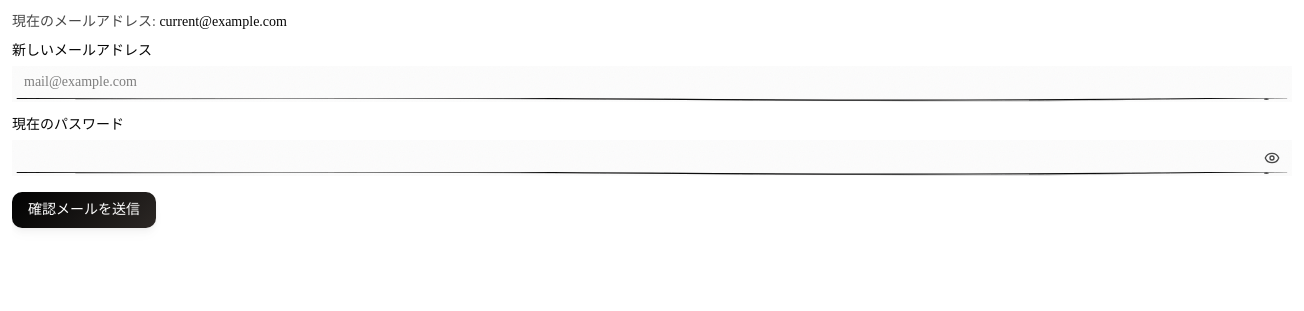
Test case: EmailChangeForm › 送信処理 › OAuth 専用アカウント（パスワード未設定）の場合 result.error をそのまま表示する
Type "new@example.com" into the field labelled "新しいメールアドレス" at (652, 84), box [12,66,1292,102]
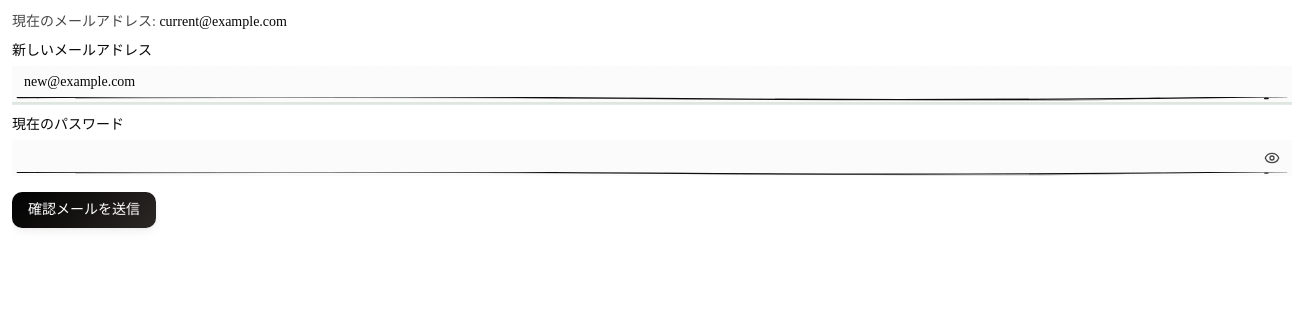
Type "somePass1" into the password field labelled "現在のパスワード" at (652, 158), box [12,140,1292,176]
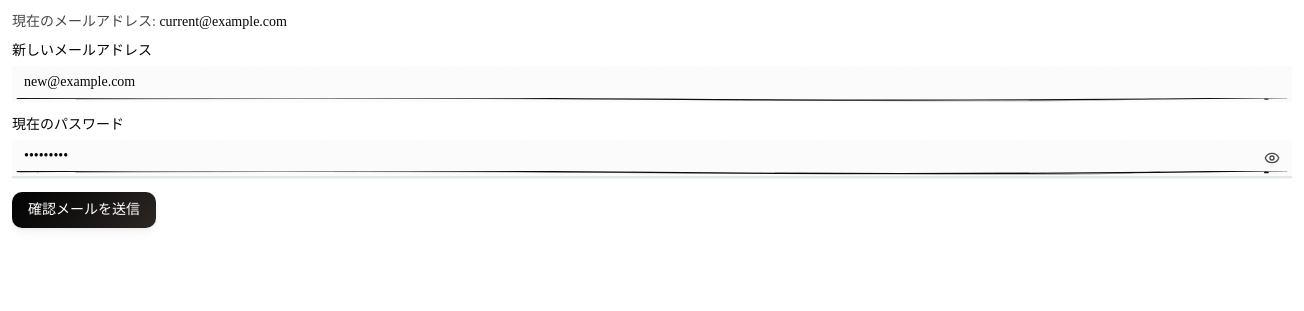
Click the button "確認メールを送信" at (84, 210), box [12,192,156,228]
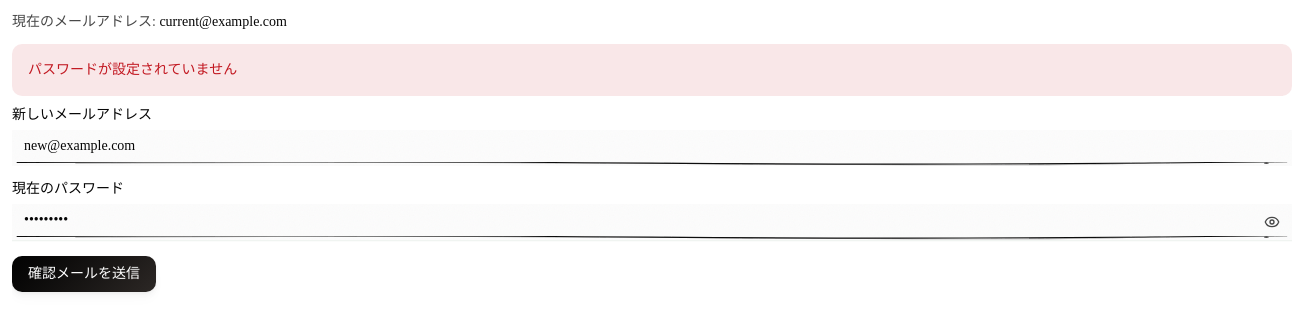
Expected: the text "パスワードが設定されていません" is shown, [12,44,1292,96]
